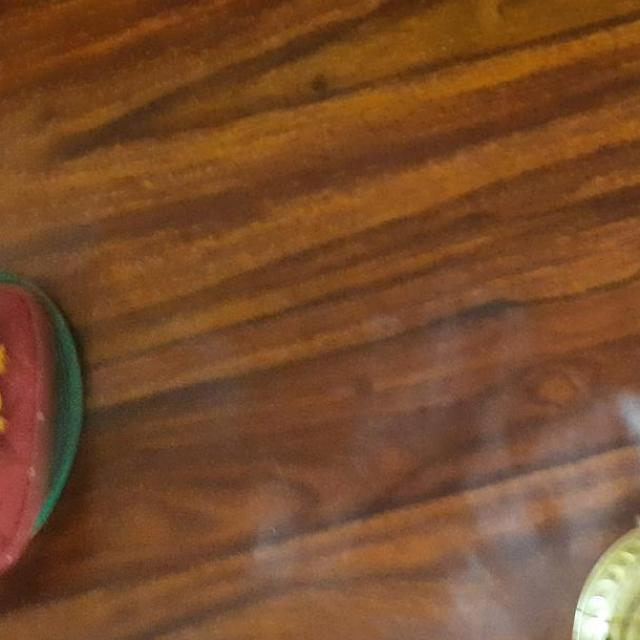fire: (440, 389, 640, 640)
